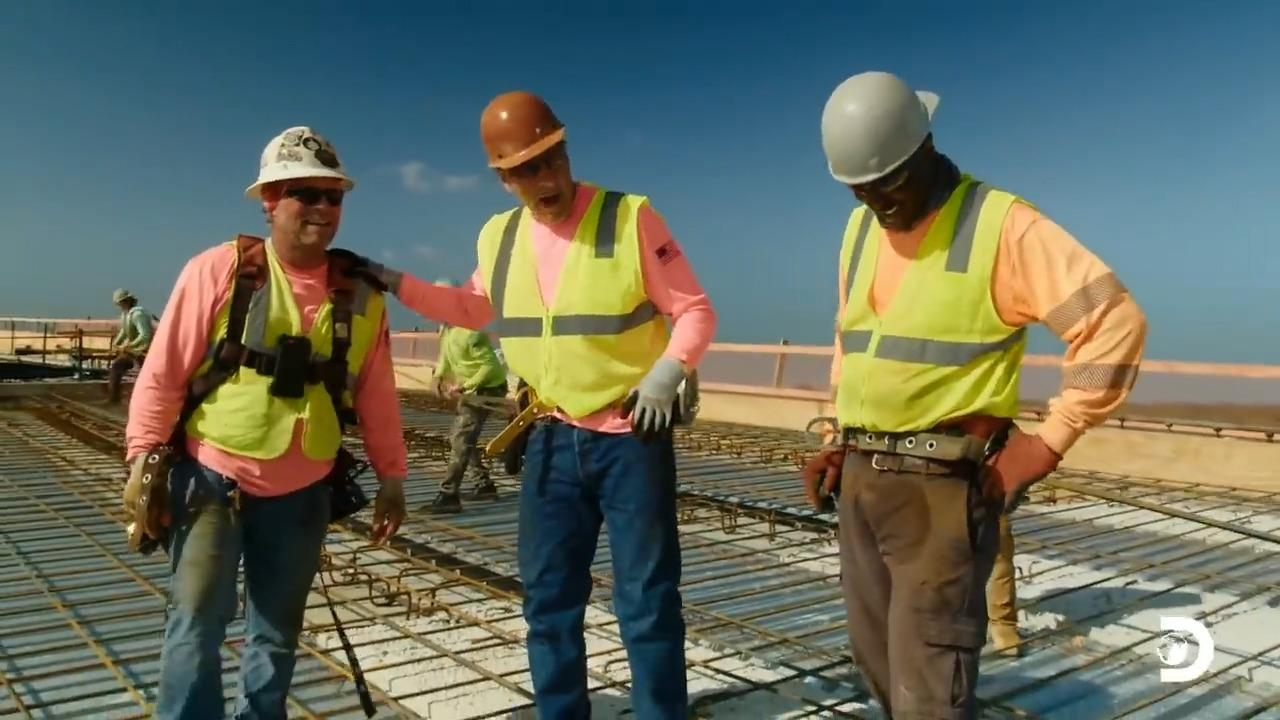Gloves: (115, 464, 176, 545), (987, 429, 1049, 504), (634, 348, 685, 429), (803, 445, 851, 511)
Helmet: (819, 70, 939, 186), (244, 125, 354, 200), (479, 90, 565, 170), (112, 287, 136, 304)
Person: (331, 89, 717, 719), (800, 69, 1147, 719), (121, 124, 408, 719), (429, 266, 509, 514), (106, 287, 159, 404)
Safety Boot: (415, 494, 463, 512), (466, 482, 499, 505)
Safety Vest: (473, 220, 650, 422), (213, 259, 374, 464), (847, 216, 1010, 414), (444, 337, 495, 389)
bare-arms: (371, 473, 416, 546)
